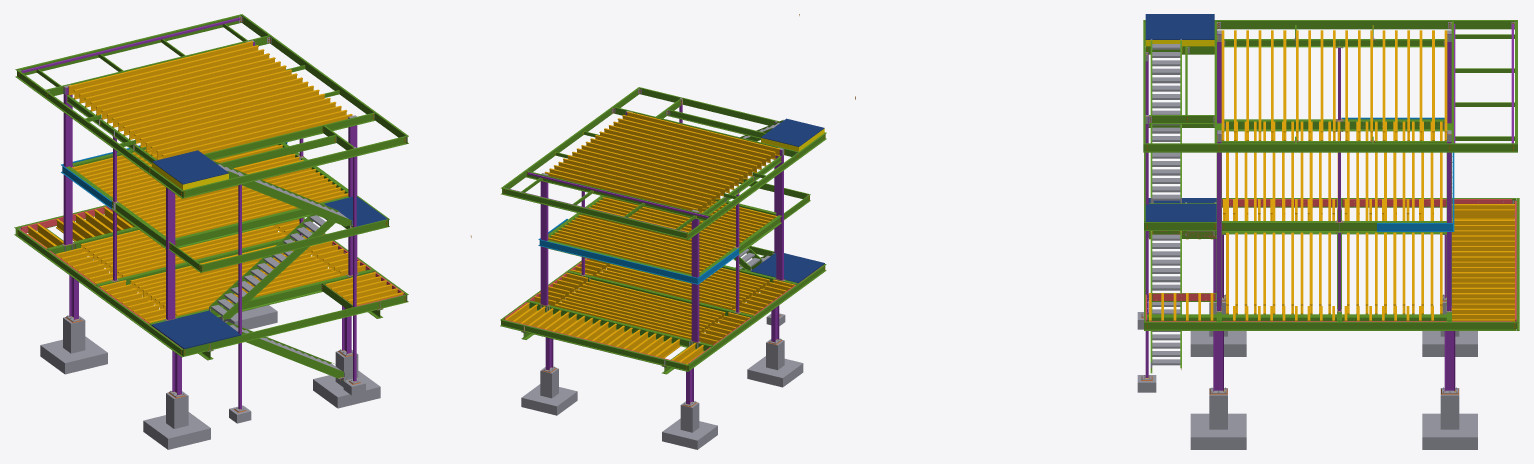
The picture shows the model from 3 angles, left to right: view 1: azimuth 30°, elevation 25°; view 2: azimuth 150°, elevation 25°; view 3: azimuth 270°, elevation 25°; orthographic projection. The views are drawn at different scales.
Parts seen in each view (by area): view 1: Mesh 28455; view 2: Mesh 28455; view 3: Mesh 28455.
Boxes of the visible parts, x1,y1,x2,y2 form: Mesh 28455: [14, 14, 471, 449]; Mesh 28455: [500, 14, 826, 449]; Mesh 28455: [855, 14, 1519, 449].
Bounding box in the file's own units: 9.65 × 11.62 × 21.8.
Materials: 1 (1 with a texture image).
